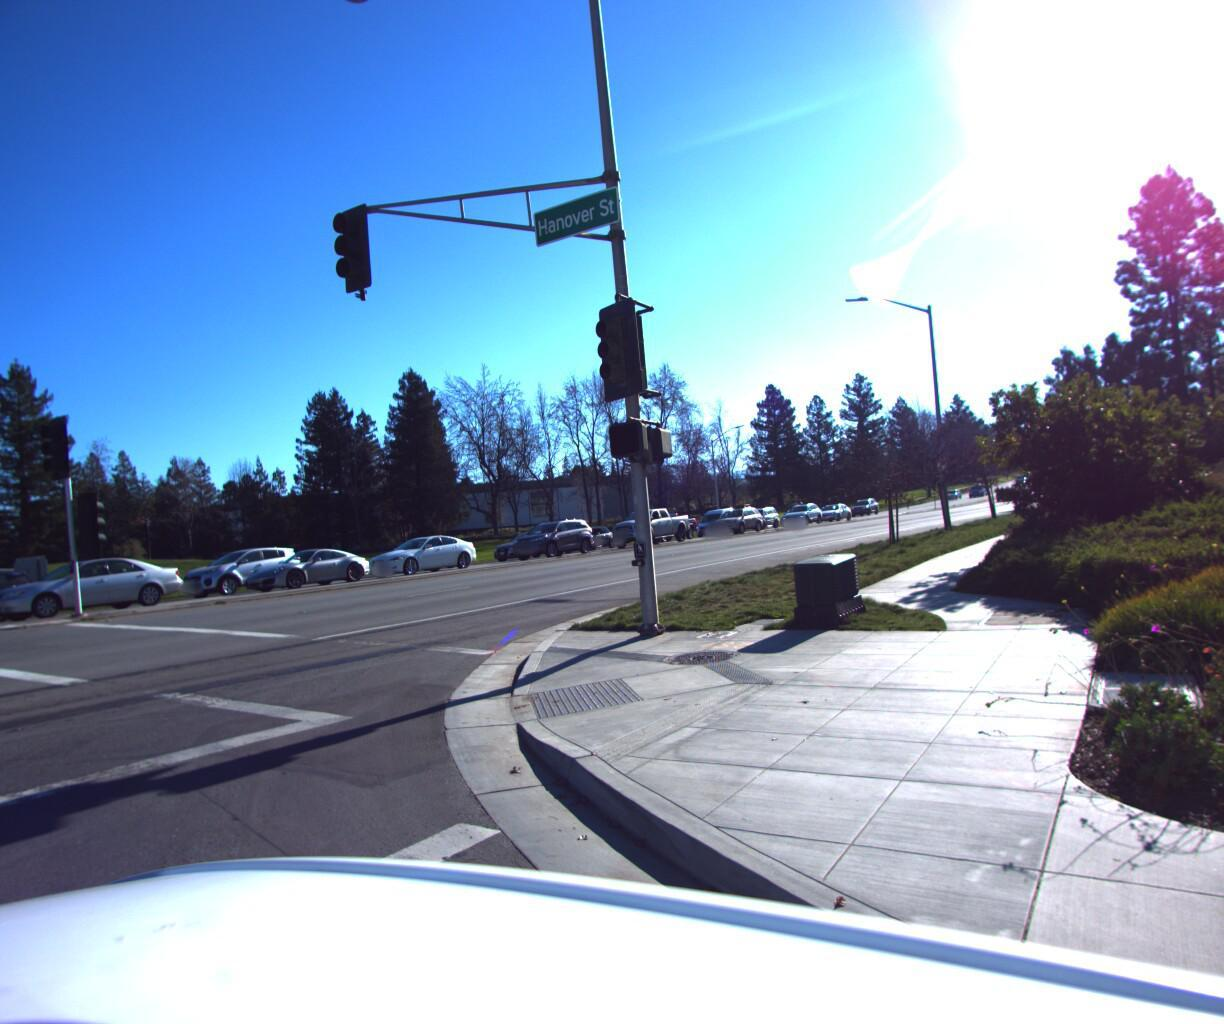car: (0, 545, 190, 618), (170, 537, 313, 594), (229, 536, 377, 588), (355, 524, 488, 573), (501, 509, 598, 555), (0, 557, 52, 631), (602, 502, 693, 544), (483, 523, 569, 556), (705, 497, 764, 531), (688, 500, 741, 530), (778, 496, 822, 522), (809, 494, 850, 517)
